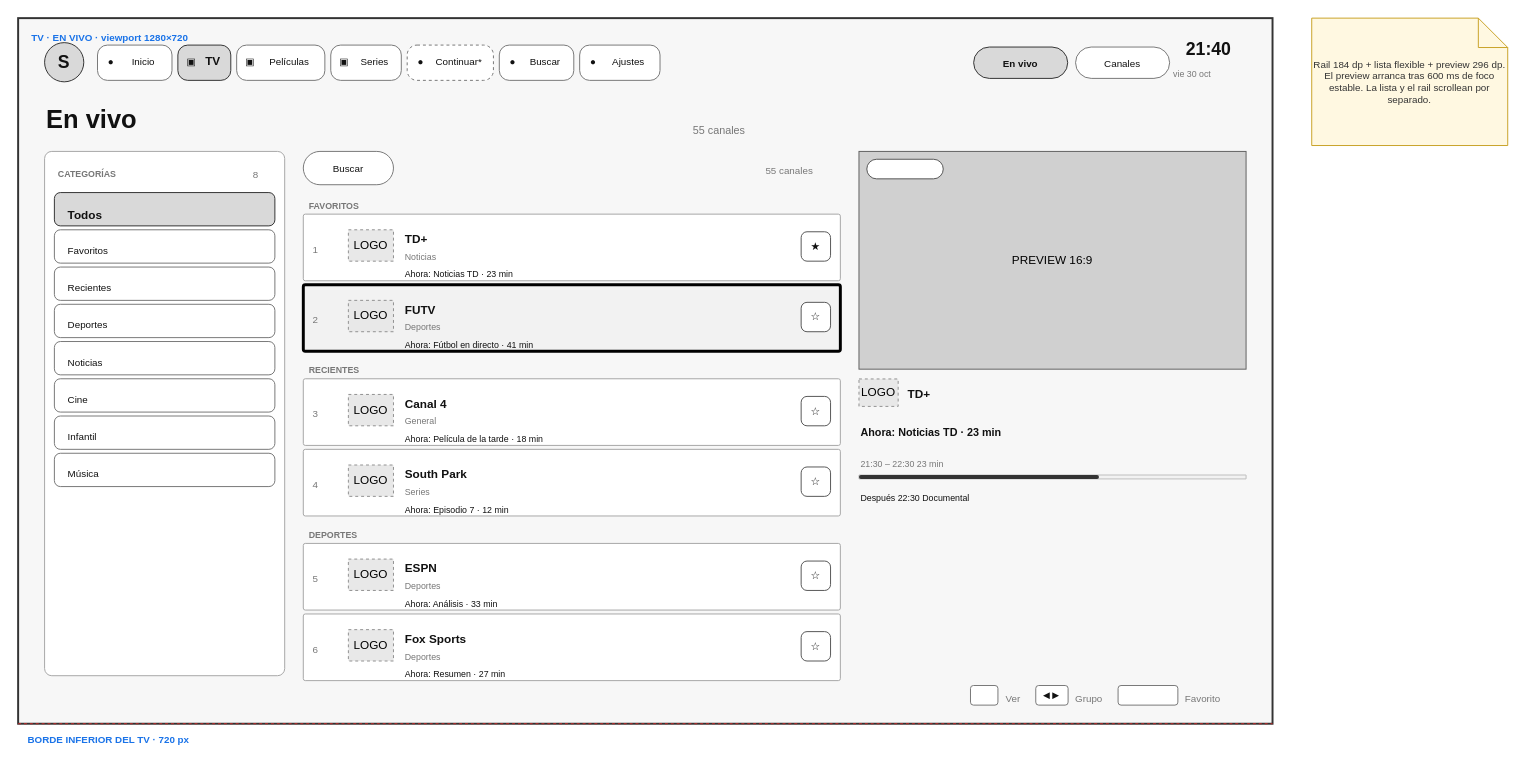
Some shapes in this 1525 by 762 pixel diagram are drawn without their labels. Here are the shapes that lost their labels. From the top down, the centre of each, then its label:
At (x=904, y=168): "● EN VIVO".
At (x=984, y=695): "OK".
At (x=1147, y=695): "Hold OK".
